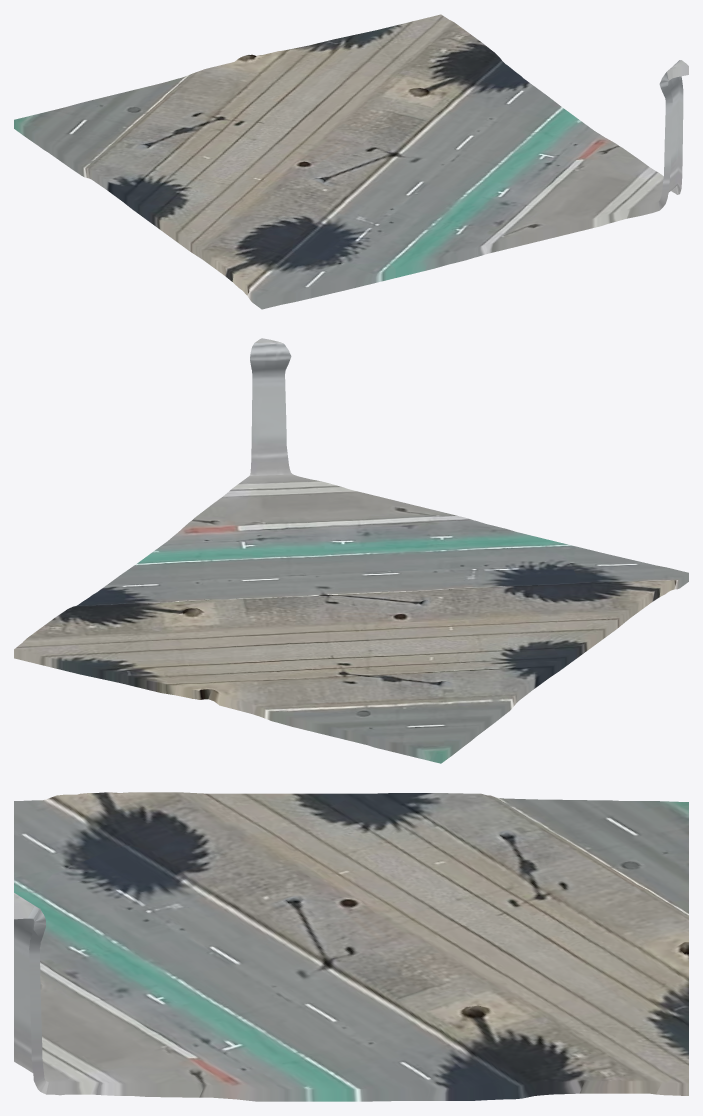
File: z20-167770-405194-h0-yup-uvflip-v3-world.glb
3 views of the same model, one above another, from view 1: azimuth 30°, elevation 25°; view 2: azimuth 150°, elevation 25°; view 3: azimuth 270°, elevation 25° (orthographic). The views are drawn at different scales.
Bounding box in the file's own units: 30.16 × 9.68 × 30.32.
1 material, 1 textured.
